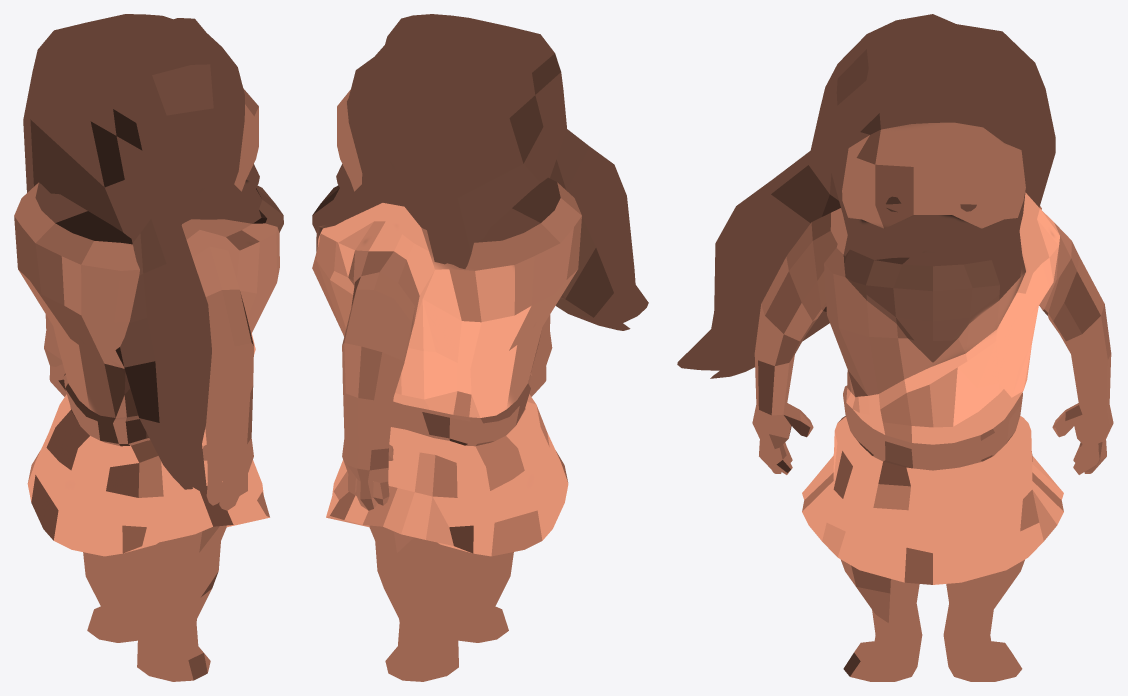
Rendered from Enkidu_v1.fbx.
3 views of the same model, side by side, from view 1: azimuth 30°, elevation 25°; view 2: azimuth 150°, elevation 25°; view 3: azimuth 270°, elevation 25° (orthographic).
Visible parts, largest first — view 1: Cube.002; view 2: Cube.002; view 3: Cube.002.
Boxes of the visible parts, bbox=[...] form: Cube.002: bbox=[14, 14, 283, 681]; Cube.002: bbox=[312, 14, 648, 681]; Cube.002: bbox=[677, 14, 1113, 681].
Bounding box in the file's own units: 362 × 933 × 590.
